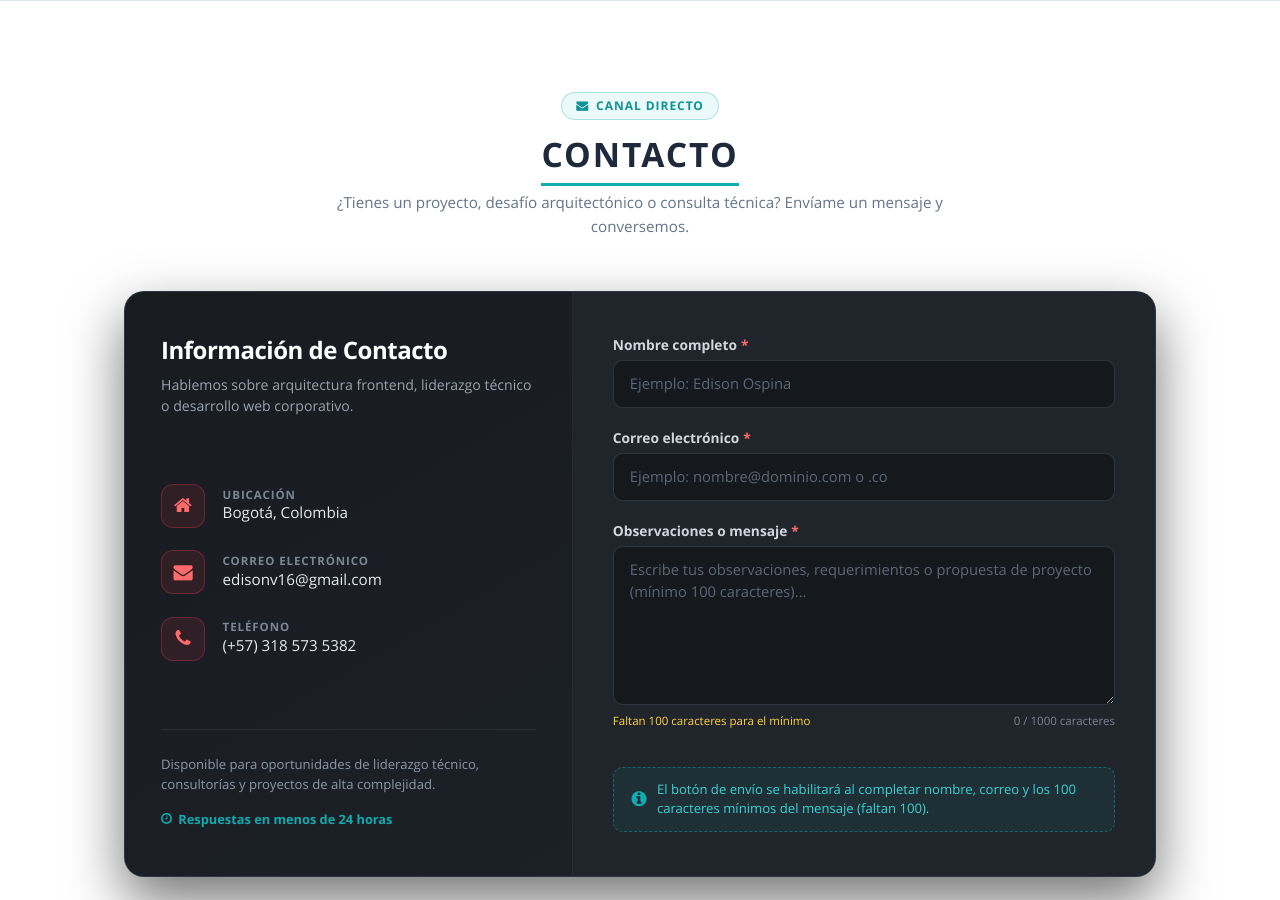
Test: Contact Component › displays warning when nombre has less than 6 characters
The image size is (1280, 900).
In the field labelled "Nombre completo*": [864, 384] box [613, 360, 1115, 408], type "Juan"
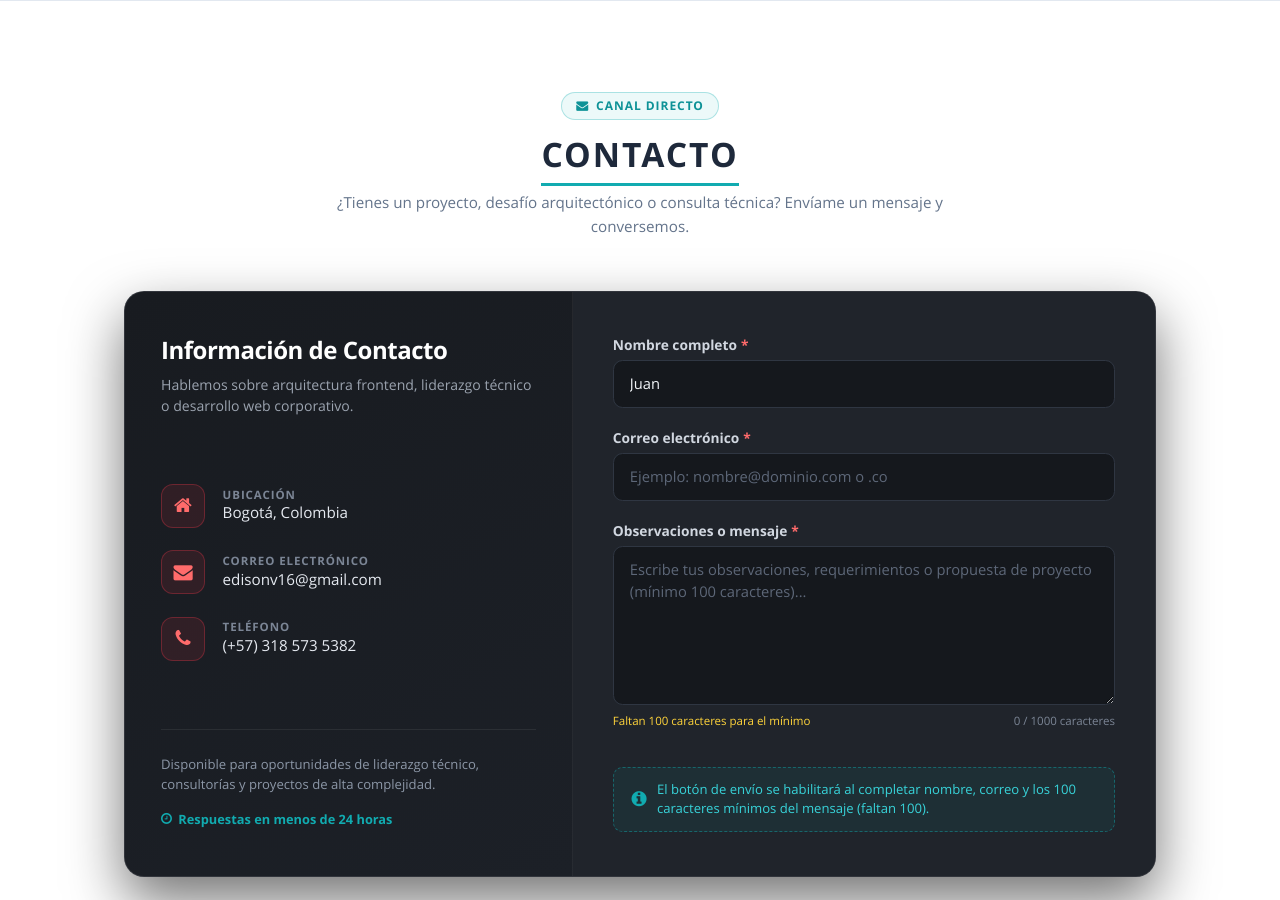
Leave the field labelled "Nombre completo*", box [613, 360, 1115, 408]
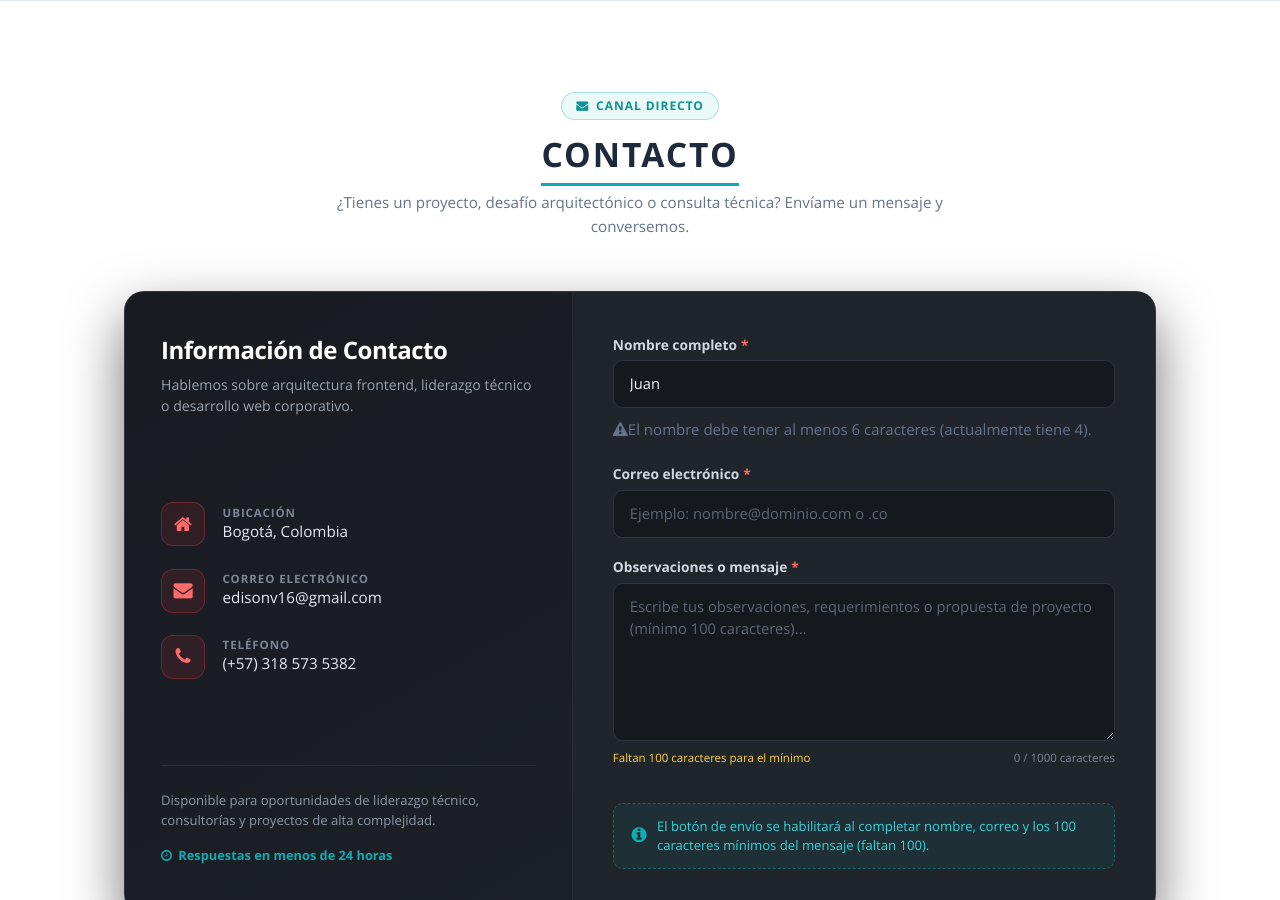
Check: the text "al menos 6 caracteres" is shown, box [628, 420, 1092, 440]
